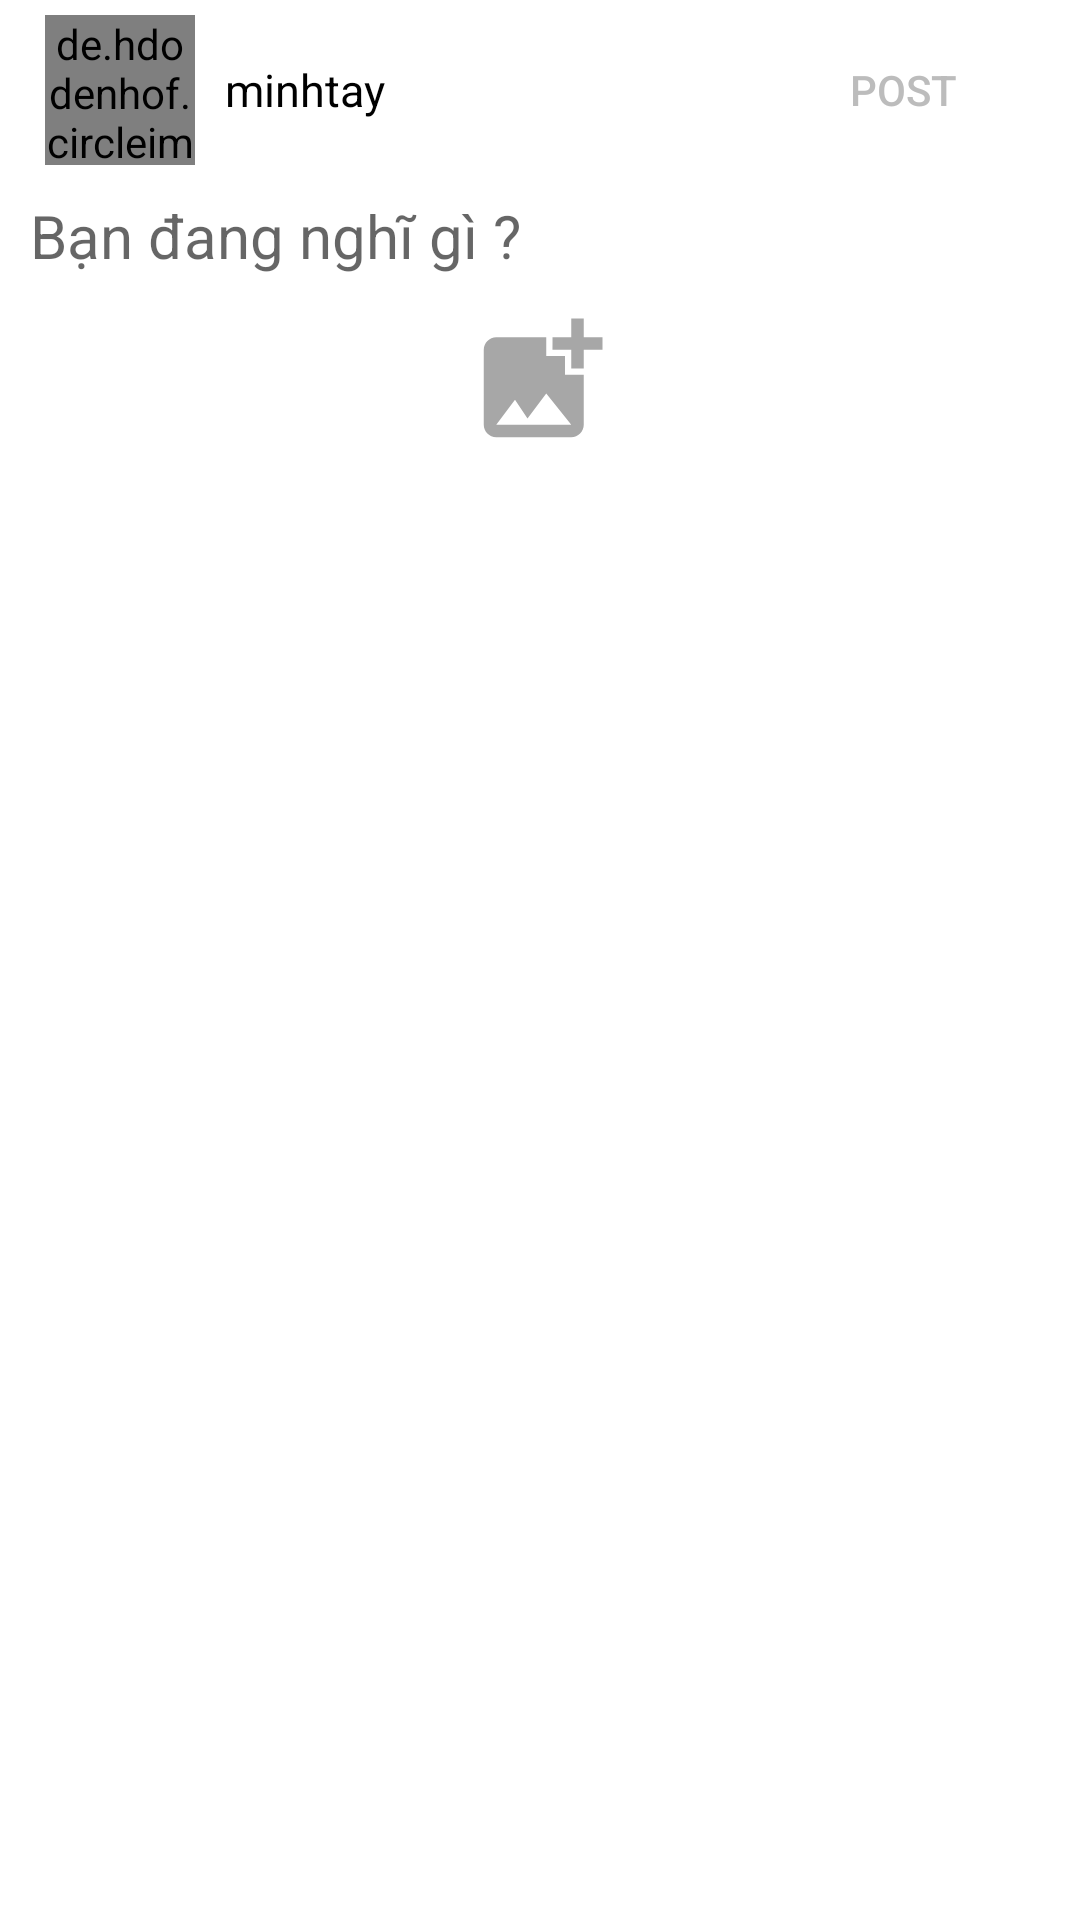

Screen size 1080px×1920px. Icon name, then its center in pixels as [x,y]:
add photo: [543,377]
